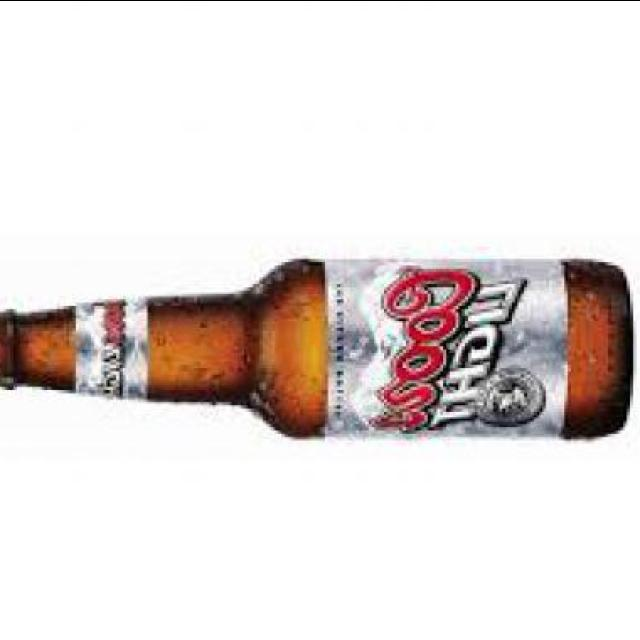kaca: (0, 256, 630, 440)
